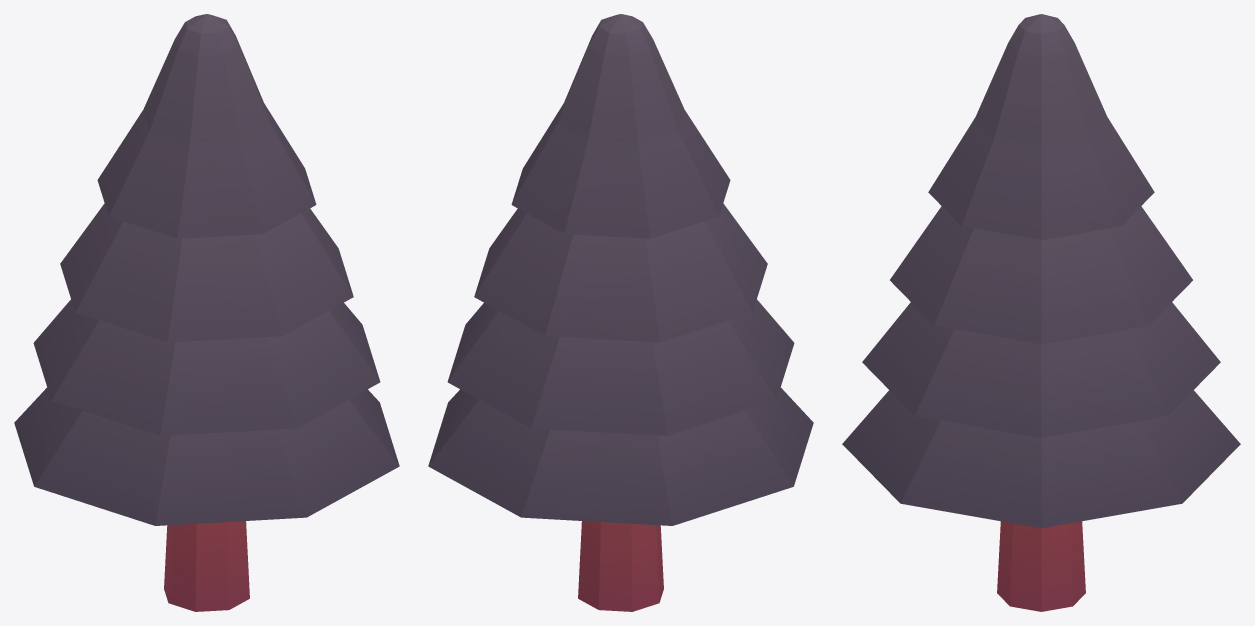
The model's file is Tree1_Dark.glb.
3 views of the same model, side by side, from view 1: azimuth 30°, elevation 25°; view 2: azimuth 150°, elevation 25°; view 3: azimuth 270°, elevation 25° (orthographic).
Visible parts, largest first — view 1: Tree1_Dark; view 2: Tree1_Dark; view 3: Tree1_Dark.
Part boxes in pixels (left/top/right/bottom): Tree1_Dark: left=14, top=14, right=399, bottom=611; Tree1_Dark: left=428, top=14, right=813, bottom=611; Tree1_Dark: left=842, top=14, right=1240, bottom=611.
Size of the model in its own units: 2.94 by 4.7 by 2.94.
1 material, 1 textured.
